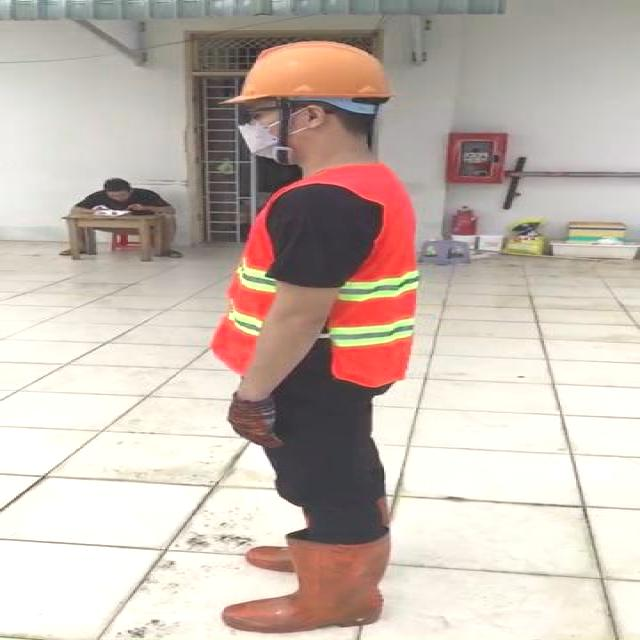boots: (224, 532, 393, 633)
face_mask: (232, 97, 303, 161)
hand_glove: (224, 397, 284, 448)
head_helmet: (231, 39, 404, 111)
person: (186, 33, 445, 632)
vest: (212, 164, 418, 388)
